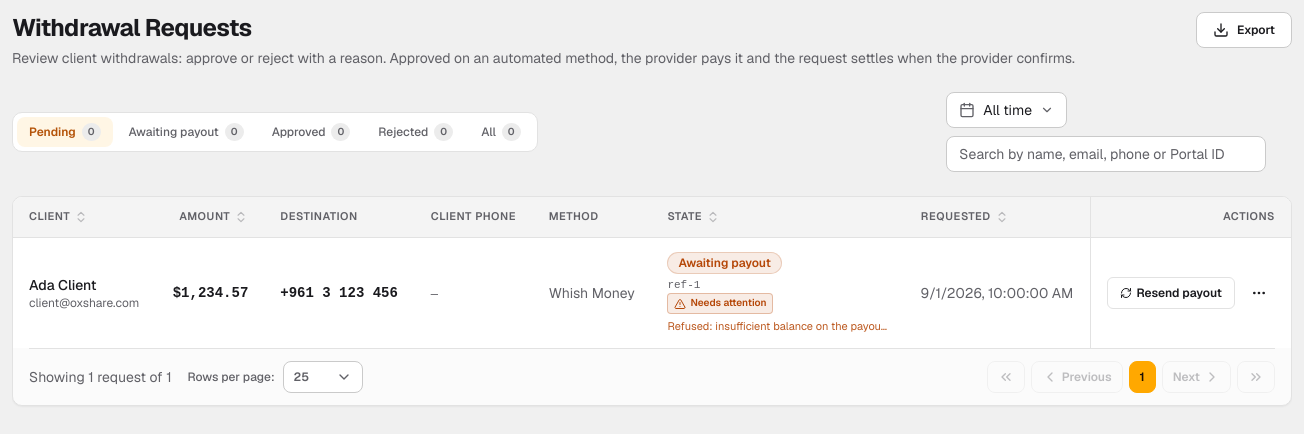
a payout only a person can settle › never offers it on a refused payout — a RESEND answers that one
The width and height of the screenshot is (1304, 434).
Expected: the button "Resend payout" is shown, [1108,277,1235,309]
Click the button named "actions for ada client".
click(1259, 293)  # box [1243,277,1275,309]
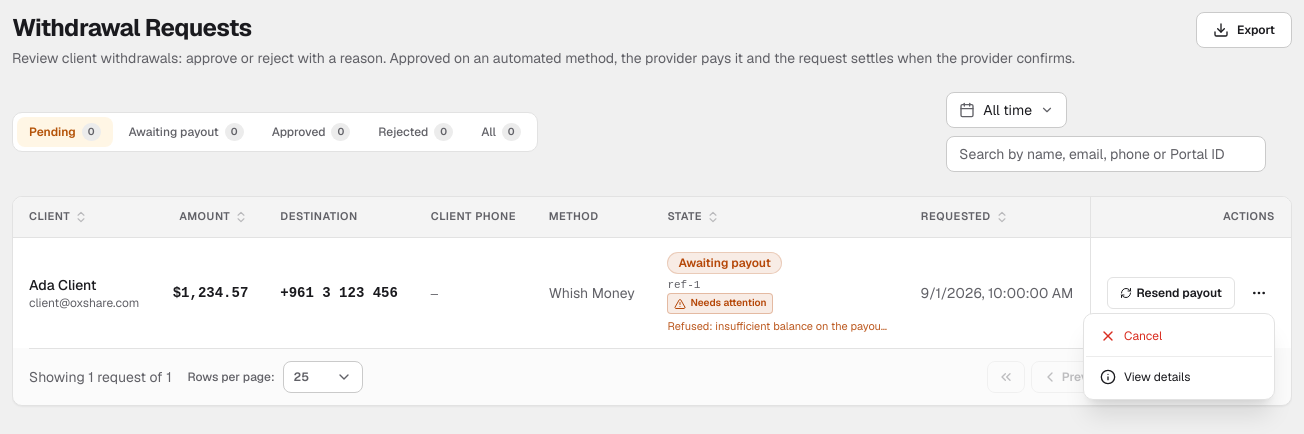
Result: the menu item "View details" is shown at [1100,369,1190,385]
